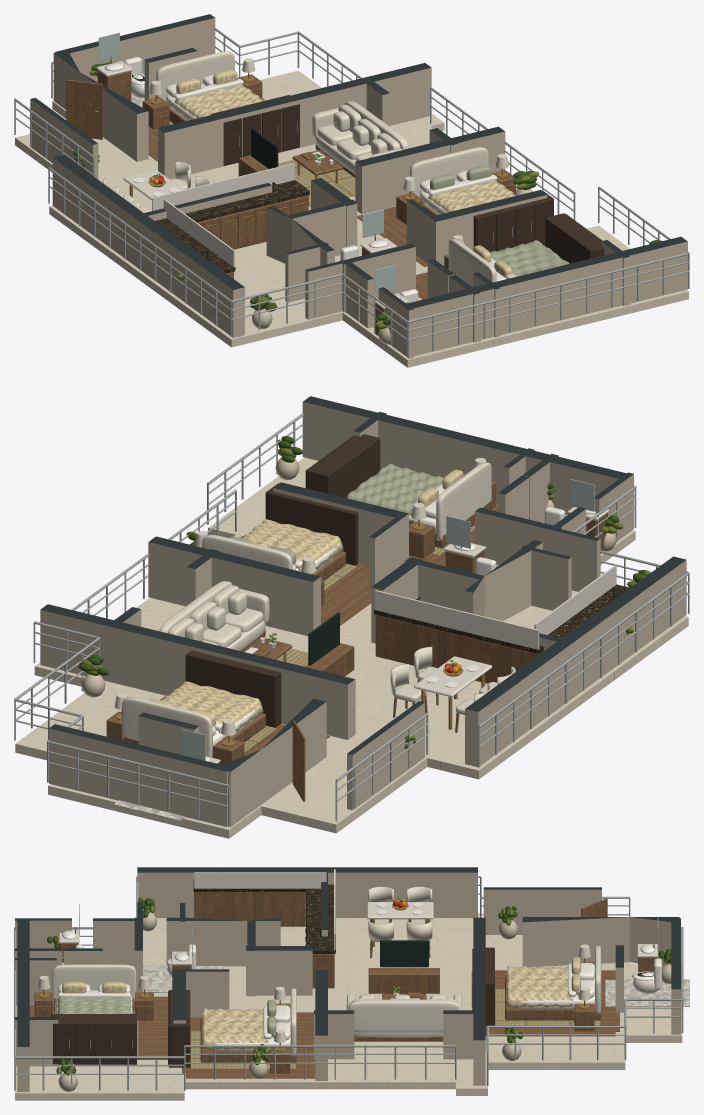
The picture shows the model from 3 angles, top to bottom: view 1: azimuth 30°, elevation 25°; view 2: azimuth 150°, elevation 25°; view 3: azimuth 270°, elevation 25°; orthographic projection. The views are drawn at different scales.
Parts seen in each view (by area): view 1: Source-traced internal and perimeter walls • Wall, Continuous apartment foundation, Backsplash.001, Fitted dark wardrobe.002, Oak entrance door, Padded headboard.001, Padded headboard, Soft jacquard duvet with folds, Soft jacquard duvet with folds.002, Soft jacquard duvet with folds.001, Deep green kitchen stone.001, Padded headboard.002 (+23 smaller); view 2: Source-traced internal and perimeter walls • Wall, Continuous apartment foundation, Base cabinets.001, Fitted dark wardrobe, Backsplash.001, Fitted dark wardrobe.001, Fitted dark wardrobe.002, Soft jacquard duvet with folds.002, Soft jacquard duvet with folds, Soft jacquard duvet with folds.001, Padded headboard.002, Padded headboard (+13 smaller); view 3: Source-traced internal and perimeter walls • Wall, Continuous apartment foundation, Base cabinets, Sofa back, Soft jacquard duvet with folds, Full bedroom wood flooring.001, Soft jacquard duvet with folds.001, Backsplash, Padded headboard.002, Walnut media console, Full bedroom wood flooring, Full bedroom wood flooring.002 (+38 smaller).
Part boxes in pixels (bbox=[...]): Source-traced internal and perimeter walls • Wall: bbox=[30, 14, 687, 358]; Continuous apartment foundation: bbox=[15, 70, 688, 367]; Backsplash.001: bbox=[152, 163, 294, 210]; Fitted dark wardrobe.002: bbox=[545, 213, 604, 263]; Oak entrance door: bbox=[66, 79, 102, 139]; Padded headboard.001: bbox=[409, 147, 488, 197]; Padded headboard: bbox=[156, 51, 234, 101]; Soft jacquard duvet with folds: bbox=[172, 84, 264, 120]; Soft jacquard duvet with folds.002: bbox=[490, 240, 569, 276]; Soft jacquard duvet with folds.001: bbox=[426, 180, 515, 214]; Deep green kitchen stone.001: bbox=[160, 180, 309, 225]; Padded headboard.002: bbox=[448, 238, 496, 287]; Source-traced internal and perimeter walls • Wall: bbox=[40, 396, 686, 827]; Continuous apartment foundation: bbox=[15, 457, 688, 838]; Base cabinets.001: bbox=[375, 615, 542, 683]; Fitted dark wardrobe: bbox=[185, 650, 281, 727]; Backsplash.001: bbox=[375, 590, 539, 649]; Fitted dark wardrobe.001: bbox=[265, 483, 358, 565]; Fitted dark wardrobe.002: bbox=[306, 434, 380, 497]; Soft jacquard duvet with folds.002: bbox=[346, 463, 443, 523]; Soft jacquard duvet with folds: bbox=[162, 681, 263, 738]; Soft jacquard duvet with folds.001: bbox=[242, 519, 343, 573]; Padded headboard.002: bbox=[436, 462, 491, 540]; Padded headboard: bbox=[121, 697, 212, 757]; Source-traced internal and perimeter walls • Wall: bbox=[15, 867, 680, 1091]; Continuous apartment foundation: bbox=[15, 913, 682, 1100]; Base cabinets: bbox=[194, 892, 305, 926]; Sofa back: bbox=[348, 999, 460, 1032]; Soft jacquard duvet with folds: bbox=[507, 966, 573, 1007]; Full bedroom wood flooring.001: bbox=[186, 1012, 315, 1078]; Soft jacquard duvet with folds.001: bbox=[202, 1008, 268, 1049]; Backsplash: bbox=[194, 872, 326, 888]; Padded headboard.002: bbox=[52, 964, 136, 1002]; Walnut media console: bbox=[368, 968, 439, 993]; Full bedroom wood flooring: bbox=[485, 970, 615, 1036]; Full bedroom wood flooring.002: bbox=[29, 996, 167, 1059].
Size of the model in its own units: 9.79 by 1.7 by 15.19.
26 materials, 6 textured.
